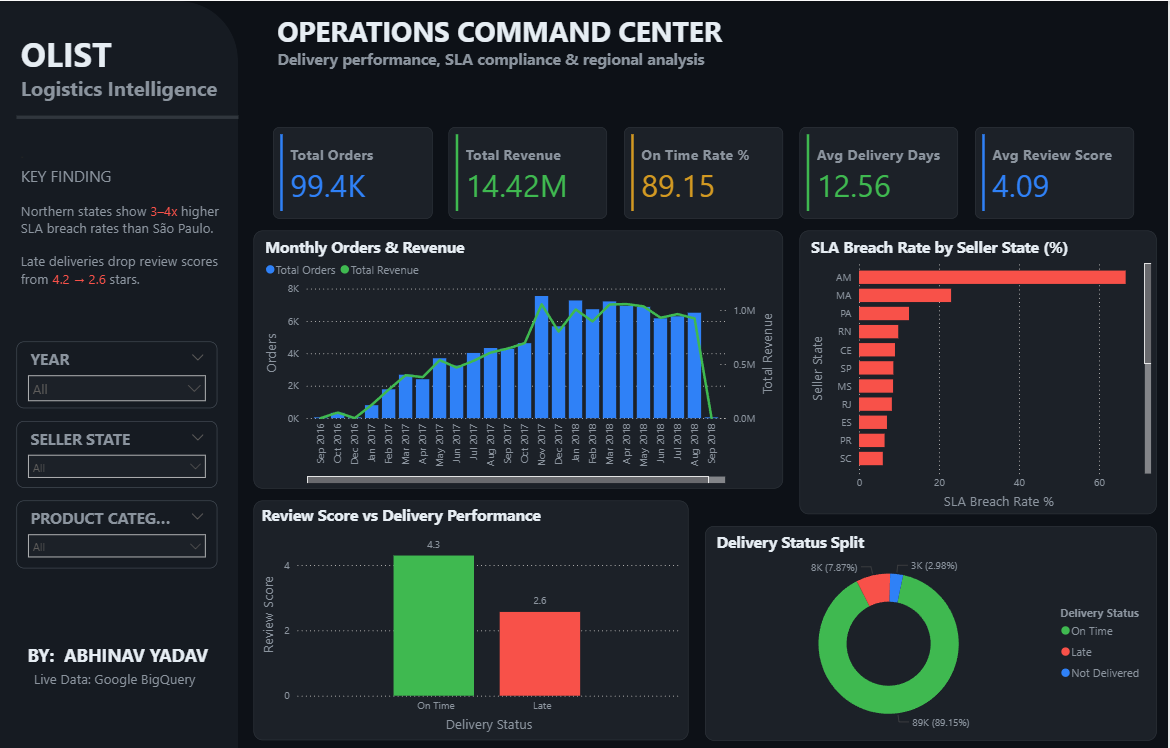

What the dashboard file says about the page in this screenshot:
{"tool":"powerbi","page":{"name":"Page 1","canvas":[1400,900],"ordinal":0},"visuals":[{"type":"shape","box":[0,0,285.2,899.1],"z":0},{"type":"textbox","title":"OLIST","box":[20.7,35.1,188.1,59.9],"z":1000},{"type":"textbox","title":"Logistics Intelligence","box":[19.8,88.1,266.1,39.5],"z":2000},{"type":"shape","box":[19.8,127.6,266.1,23.4],"z":3000},{"type":"textbox","title":".","box":[19.8,172.6,266.1,194.1],"z":4000},{"type":"slicer","fields":{"Values":["vw_fact_analytics.year"]},"box":[20,408.1,240.6,80],"z":5000},{"type":"slicer","fields":{"Values":["dim_sellers.seller_state"]},"box":[20,503.1,240.6,80],"z":6000},{"type":"slicer","fields":{"Values":["dim_products.category"]},"box":[20,597.9,240.5,81.1],"z":7000},{"type":"textbox","box":[25,797,224.7,44.9],"z":8000},{"type":"textbox","box":[23.4,764,235.5,43.1],"z":9000},{"type":"textbox","title":"OPERATIONS COMMAND CENTER","box":[327.2,12.6,1058.8,127.6],"z":10000},{"type":"cardVisual","fields":{"Data":["vw_fact_analytics.Total Orders"]},"box":[327.8,151.1,191.1,110],"z":11000},{"type":"cardVisual","fields":{"Data":["vw_fact_analytics.On Time Rate %"]},"box":[747.9,151.4,190.7,110],"z":12000},{"type":"cardVisual","fields":{"Data":["Sum(vw_fact_analytics.total_order_value)"]},"box":[537.9,151.4,190,110],"z":13000},{"type":"cardVisual","fields":{"Data":["Avg(vw_fact_analytics.total_delivery_days)"]},"box":[957.9,151.4,190,110],"z":14000},{"type":"cardVisual","fields":{"Data":["Avg(vw_fact_analytics.avg_review_score)"]},"box":[1167.9,151.4,190.7,110],"z":15000},{"type":"lineClusteredColumnComboChart","title":"Monthly Orders & Revenue","fields":{"Y":["vw_fact_analytics.Total Orders"],"Y2":["Sum(vw_fact_analytics.total_order_value)"],"Category":["vw_fact_analytics.month_label"]},"box":[303.8,275,634.6,309.2],"z":16000},{"type":"donutChart","title":"Delivery Status Split","fields":{"Y":["vw_fact_analytics.Total Orders"],"Category":["vw_fact_analytics.delivery_status"]},"box":[844.9,629.2,541.1,257.1],"z":17000},{"type":"columnChart","title":"Review Score vs Delivery Performance","fields":{"Category":["vw_fact_analytics.delivery_status"],"Y":["Avg(vw_fact_analytics.avg_review_score)"]},"box":[303.8,598.6,521.3,287.6],"z":18000},{"type":"clusteredBarChart","title":"SLA Breach Rate by Seller State (%)","fields":{"Category":["dim_sellers.seller_state"],"Y":["vw_fact_analytics.SLA Breach Rate %"]},"box":[957.9,275,427.9,340],"z":19000},{"type":"textbox","box":[329,83,952.7,50.3],"z":19001}]}

Visuals, with their boxes in screenshot pixels (x1, y1, x2, y2), scaled from the page's 1400x900 canvas onto the 1170x748 screenshot:
shape: [left=0, top=0, right=238, bottom=747]
"OLIST" textbox: [left=17, top=29, right=174, bottom=79]
"Logistics Intelligence" textbox: [left=17, top=73, right=239, bottom=106]
shape: [left=17, top=106, right=239, bottom=125]
"." textbox: [left=17, top=143, right=239, bottom=305]
slicer - vw_fact_analytics.year: [left=17, top=339, right=218, bottom=406]
slicer - dim_sellers.seller_state: [left=17, top=418, right=218, bottom=485]
slicer - dim_products.category: [left=17, top=497, right=218, bottom=564]
textbox: [left=21, top=662, right=209, bottom=700]
textbox: [left=20, top=635, right=216, bottom=671]
"OPERATIONS COMMAND CENTER" textbox: [left=273, top=10, right=1158, bottom=117]
cardVisual - vw_fact_analytics.Total Orders: [left=274, top=126, right=434, bottom=217]
cardVisual - vw_fact_analytics.On Time Rate %: [left=625, top=126, right=784, bottom=217]
cardVisual - Sum(vw_fact_analytics.total_order_value): [left=450, top=126, right=608, bottom=217]
cardVisual - Avg(vw_fact_analytics.total_delivery_days): [left=801, top=126, right=959, bottom=217]
cardVisual - Avg(vw_fact_analytics.avg_review_score): [left=976, top=126, right=1135, bottom=217]
"Monthly Orders & Revenue" lineClusteredColumnComboChart: [left=254, top=229, right=784, bottom=486]
"Delivery Status Split" donutChart: [left=706, top=523, right=1158, bottom=737]
"Review Score vs Delivery Performance" columnChart: [left=254, top=498, right=690, bottom=737]
"SLA Breach Rate by Seller State (%)" clusteredBarChart: [left=801, top=229, right=1158, bottom=511]
textbox: [left=275, top=69, right=1071, bottom=111]
